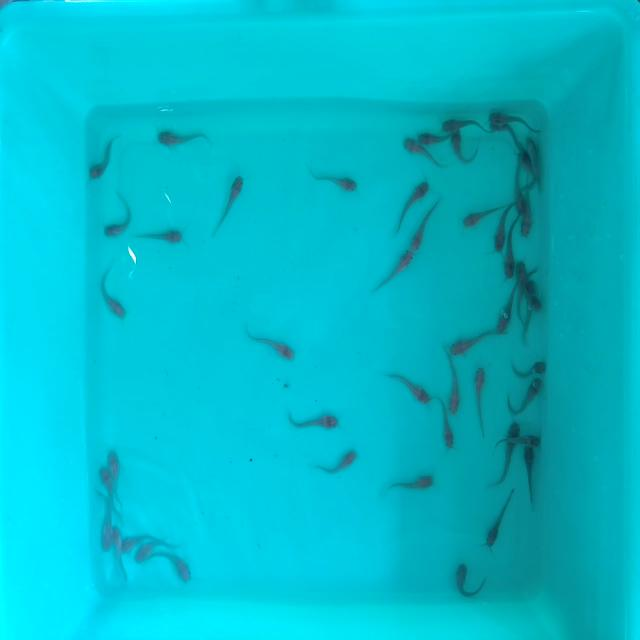lele: (393, 176, 435, 233), (372, 244, 418, 296), (240, 325, 296, 364), (406, 196, 442, 253), (484, 489, 518, 549), (212, 172, 244, 235), (87, 129, 123, 183), (386, 367, 434, 406), (95, 269, 128, 324), (305, 165, 360, 196), (449, 326, 496, 358), (163, 546, 196, 591), (489, 108, 543, 135), (459, 198, 505, 228), (317, 450, 361, 480), (515, 375, 547, 416), (384, 470, 439, 492), (434, 392, 455, 449), (405, 138, 443, 169), (454, 559, 483, 599), (287, 410, 341, 431), (442, 116, 498, 136), (446, 356, 466, 412), (105, 197, 131, 239), (450, 128, 479, 165), (495, 442, 517, 490), (501, 121, 527, 161), (495, 288, 515, 340), (496, 424, 547, 444), (473, 366, 487, 433), (524, 448, 540, 500), (97, 507, 112, 559), (132, 540, 164, 564), (517, 358, 548, 382), (493, 205, 507, 256), (134, 232, 184, 246), (160, 132, 210, 146), (512, 167, 526, 215), (516, 258, 526, 324), (418, 131, 456, 148), (112, 526, 126, 572), (503, 239, 520, 276), (124, 526, 149, 550), (110, 456, 124, 496), (530, 164, 548, 195), (524, 280, 534, 334), (516, 211, 536, 238), (522, 136, 538, 166), (100, 464, 112, 501), (530, 292, 544, 316)
